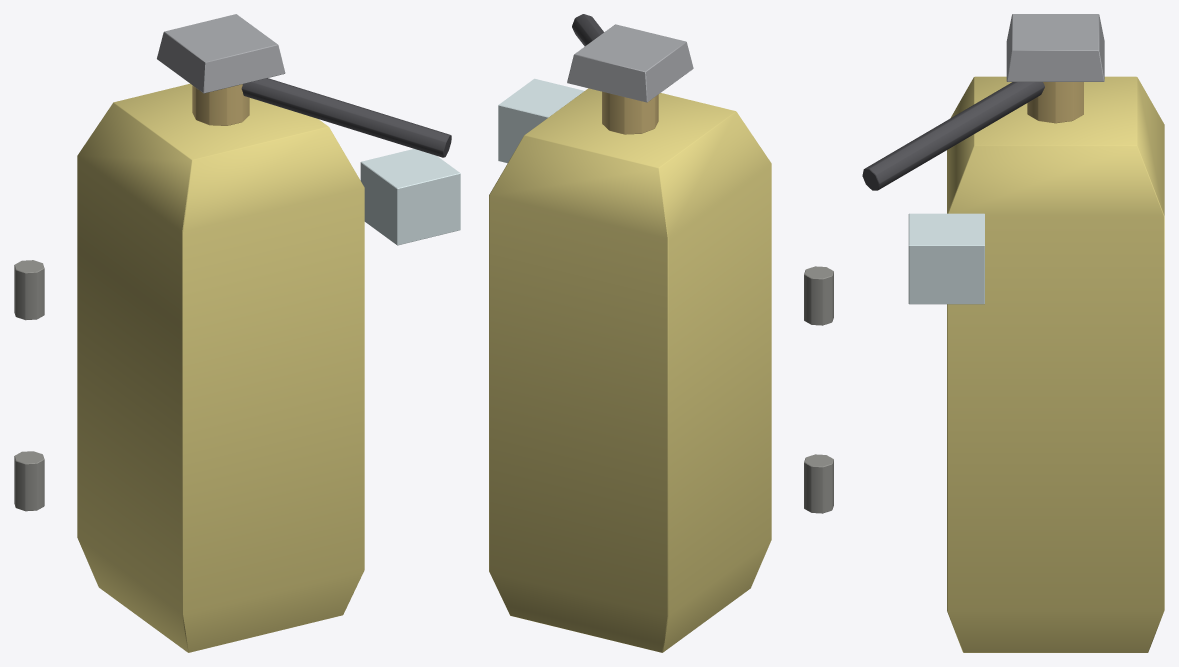
The model's file is IT_oxygen_tank.fbx.
The picture shows the model from 3 angles, left to right: view 1: azimuth 30°, elevation 25°; view 2: azimuth 150°, elevation 25°; view 3: azimuth 270°, elevation 25°; orthographic projection. The views are drawn at different scales.
Parts seen in each view (by area): view 1: IT_oxygen_tank; view 2: IT_oxygen_tank; view 3: IT_oxygen_tank.
Boxes of the visible parts, x1,y1,x2,y2 form: IT_oxygen_tank: [14, 14, 460, 652]; IT_oxygen_tank: [489, 14, 833, 652]; IT_oxygen_tank: [862, 14, 1164, 652].
Bounding box in the file's own units: 0.8195 × 1.18 × 0.555.
